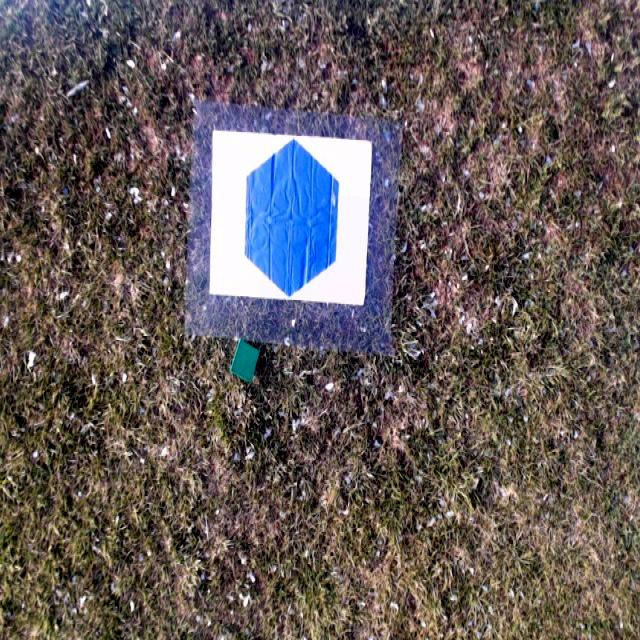blue_hexagon: (244, 134, 338, 298)
